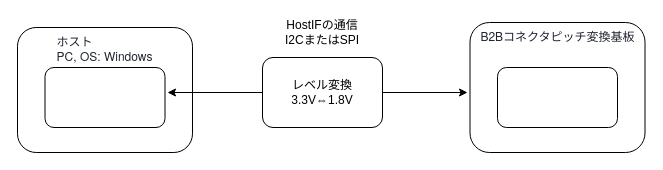
Image size: 663x170. Some labels were removed from this diagram. Here are the shapes that lost their labels. From the top down, the centre of each, then its label:
pixel 104 97: FTDI USB MPSSE ケーブル
pixel 557 97: HostIF提供側 Spresense（Spresense SDK）
